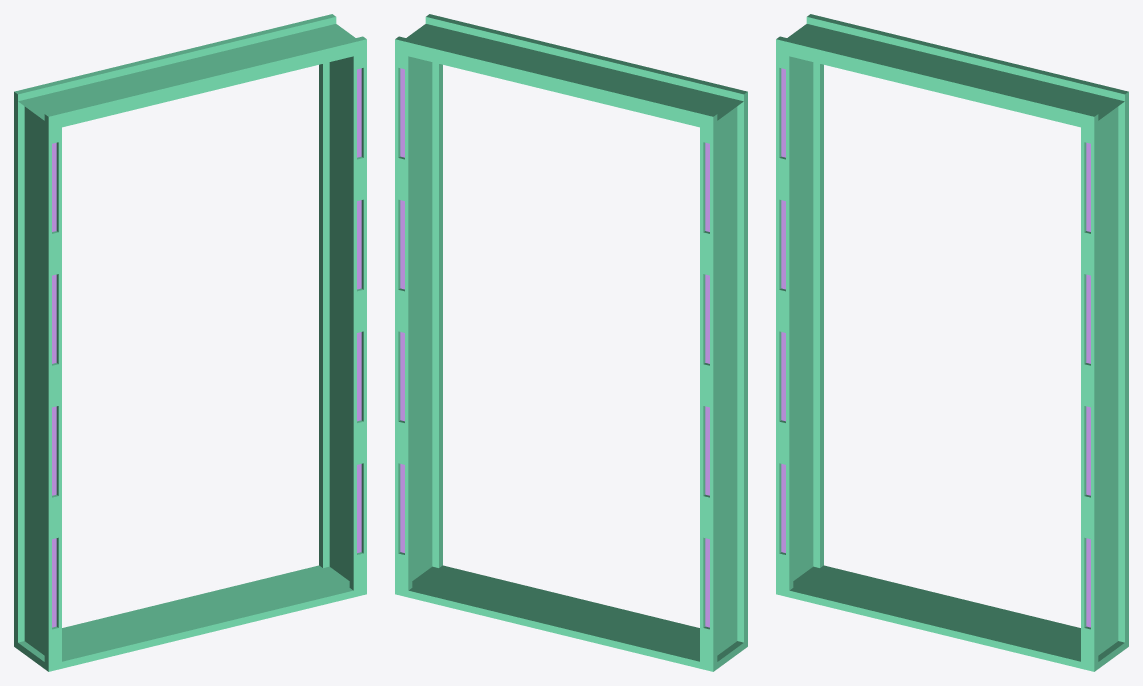
The model's file is DoorFrame.obj.
3 renders of one model, left to right at view 1: azimuth 30°, elevation 25°; view 2: azimuth 150°, elevation 25°; view 3: azimuth 330°, elevation 25°, orthographic.
Visible parts, largest first — view 1: DoorFrame; view 2: DoorFrame; view 3: DoorFrame.
Part boxes in pixels (x1,y1,x2,y2): DoorFrame: (14,14,366,671); DoorFrame: (395,14,747,671); DoorFrame: (776,14,1128,671).
Bounding box in the file's own units: 1.92 × 3.2 × 0.36.
